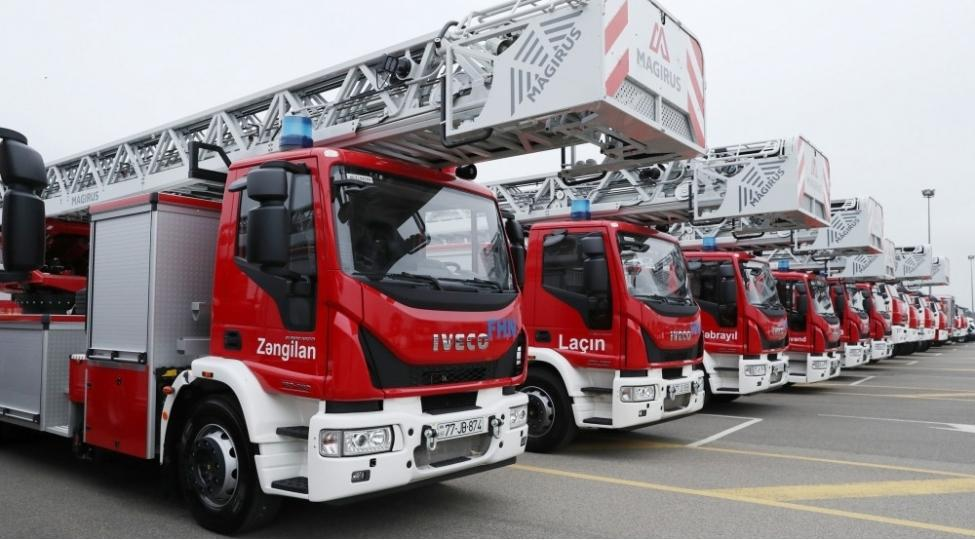Fire-engine: (53, 71, 710, 529)
